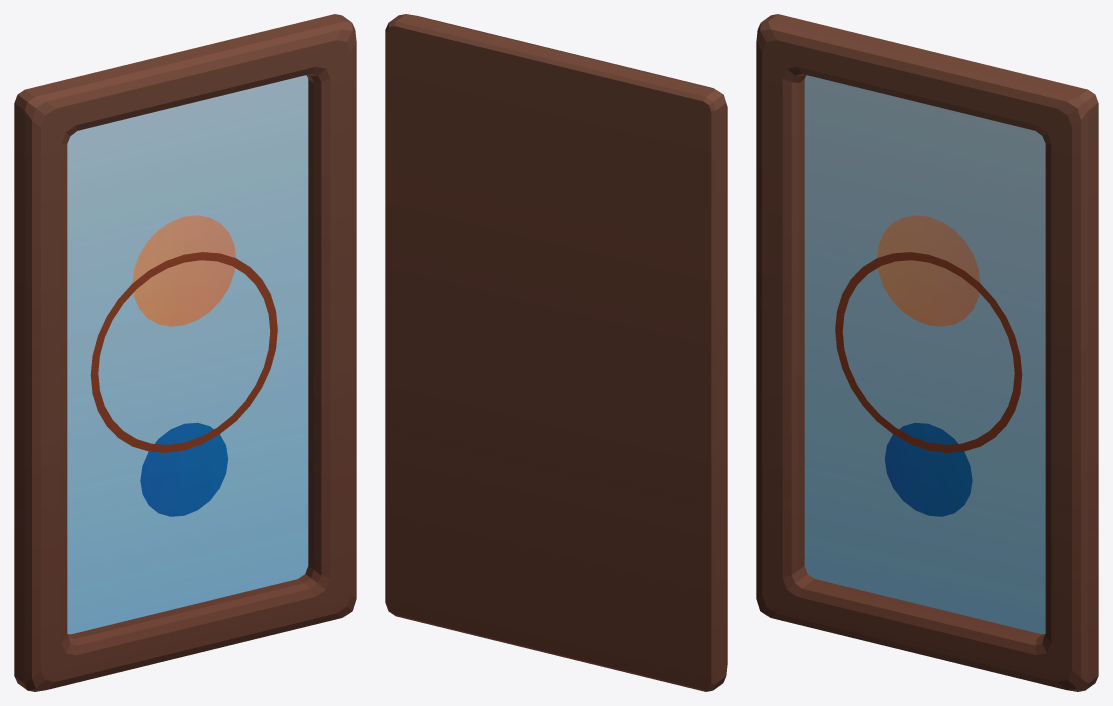
File: picture_068.glb
3 renders of one model, left to right at view 1: azimuth 30°, elevation 25°; view 2: azimuth 150°, elevation 25°; view 3: azimuth 330°, elevation 25°, orthographic.
Visible parts, largest first — view 1: Picture_17; view 2: Picture_17; view 3: Picture_17.
Part boxes in pixels (x1,y1,x2,y2): Picture_17: (14, 14, 356, 691); Picture_17: (385, 14, 727, 691); Picture_17: (756, 14, 1098, 691).
Bounding box in the file's own units: 0.6401 × 1.1 × 0.06.
Materials: 1 (1 with a texture image).
